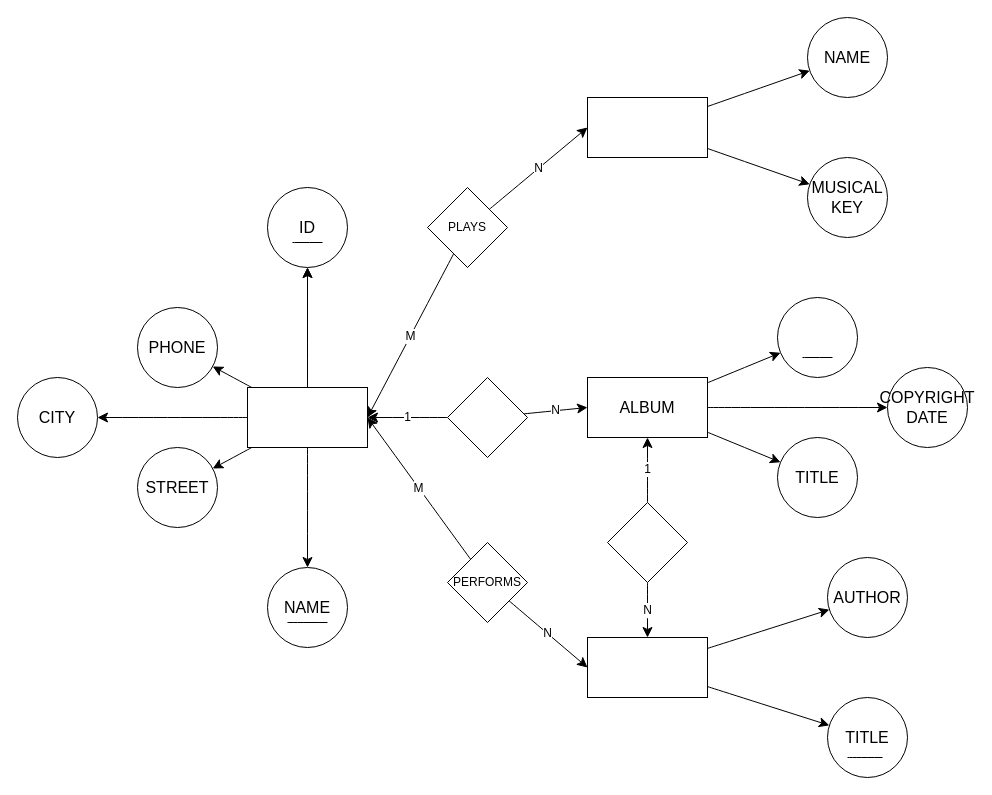
This 992x795 diagram has some shape labels left out. The shapes that lost their labels are listed below. From the top down, each one's centre as x and y in pixels, then its label:
At [647,127]: "INSTRUMENT".
At [817,337]: "ALBUM ID".
At [307,417]: "MUSICIAN".
At [487,417]: "PRODUCES".
At [647,542]: "CONTAINS".
At [647,667]: "SONG".
